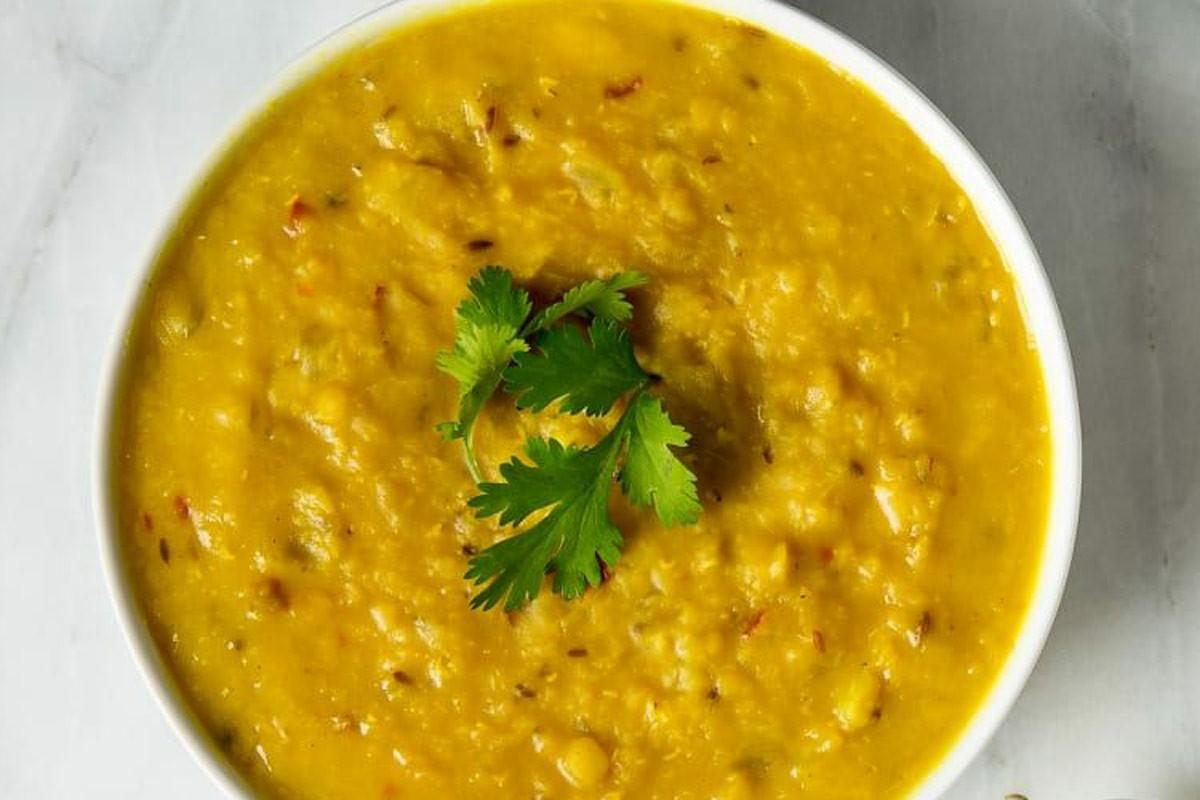Dal: (112, 2, 1049, 800)
